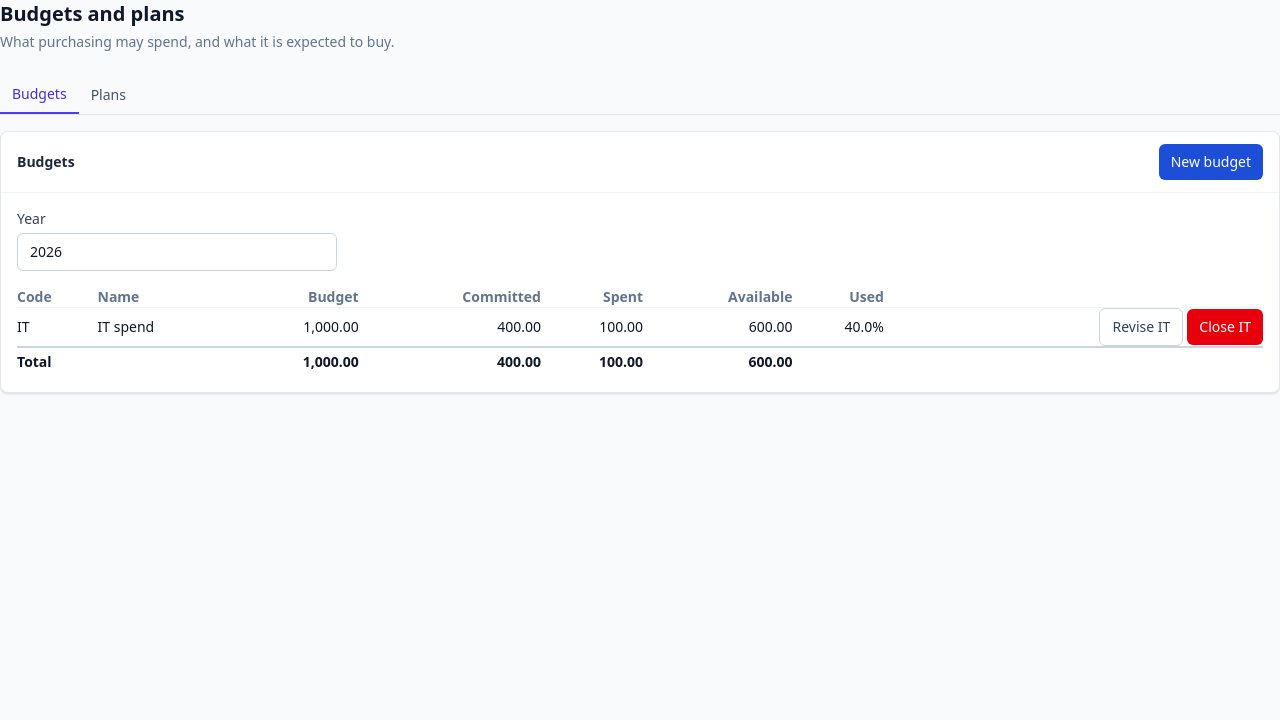
Budgets tab › closes a budget and shows the server's refusal when commitments are open
Click the button "Close IT" at [1225, 327], box x1=1187 y1=309 x2=1263 y2=345
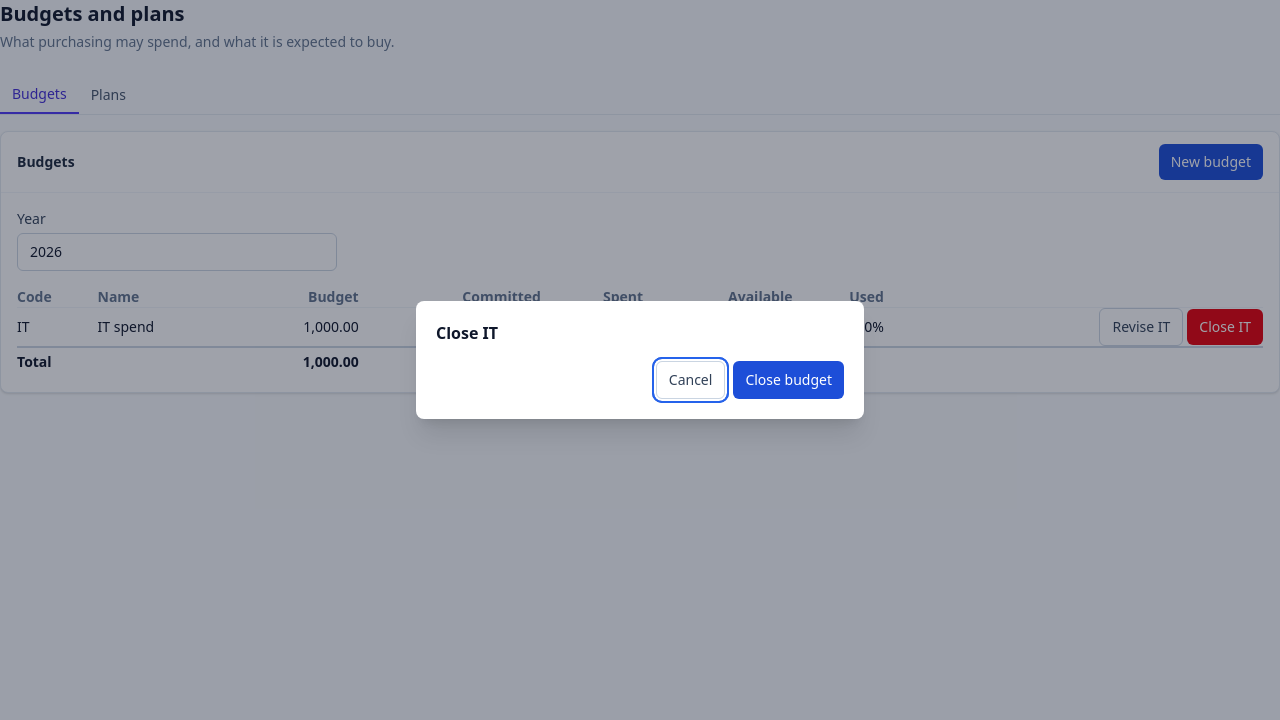
Click the button "Close budget" at [789, 380], box x1=733 y1=361 x2=844 y2=399
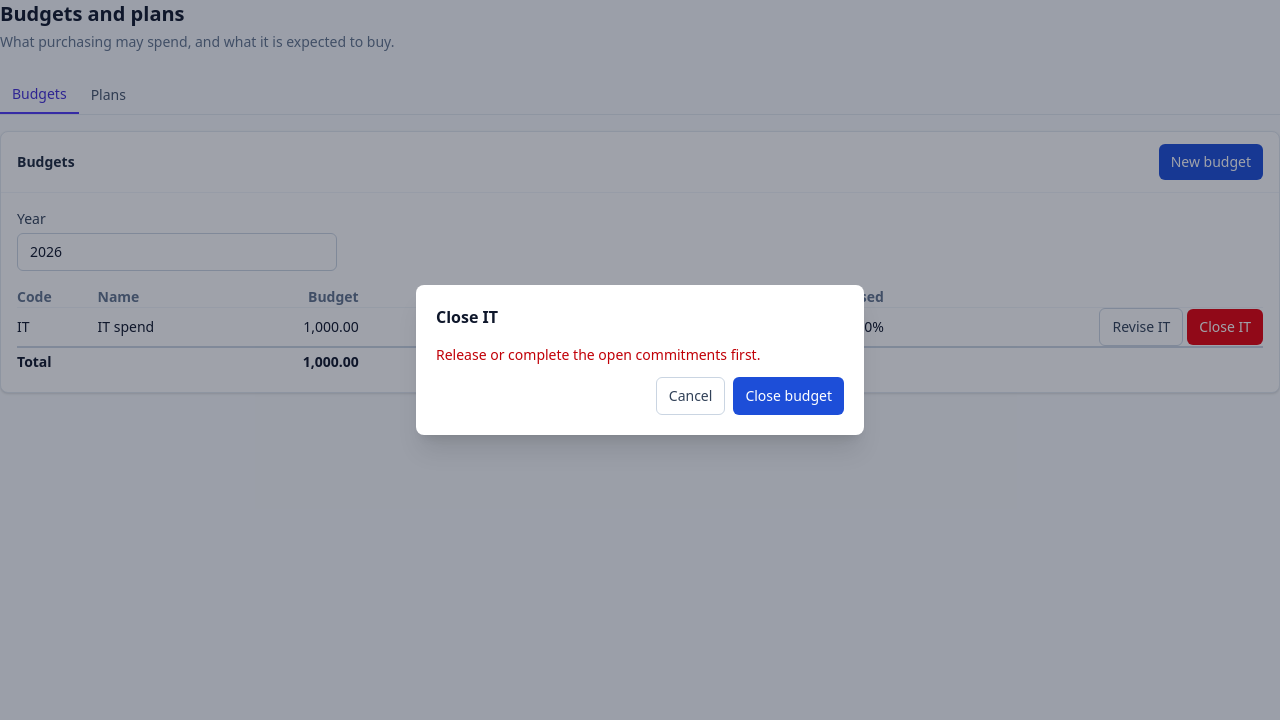
Result: the message shows "open commitments" at x1=436 y1=345 x2=760 y2=364
